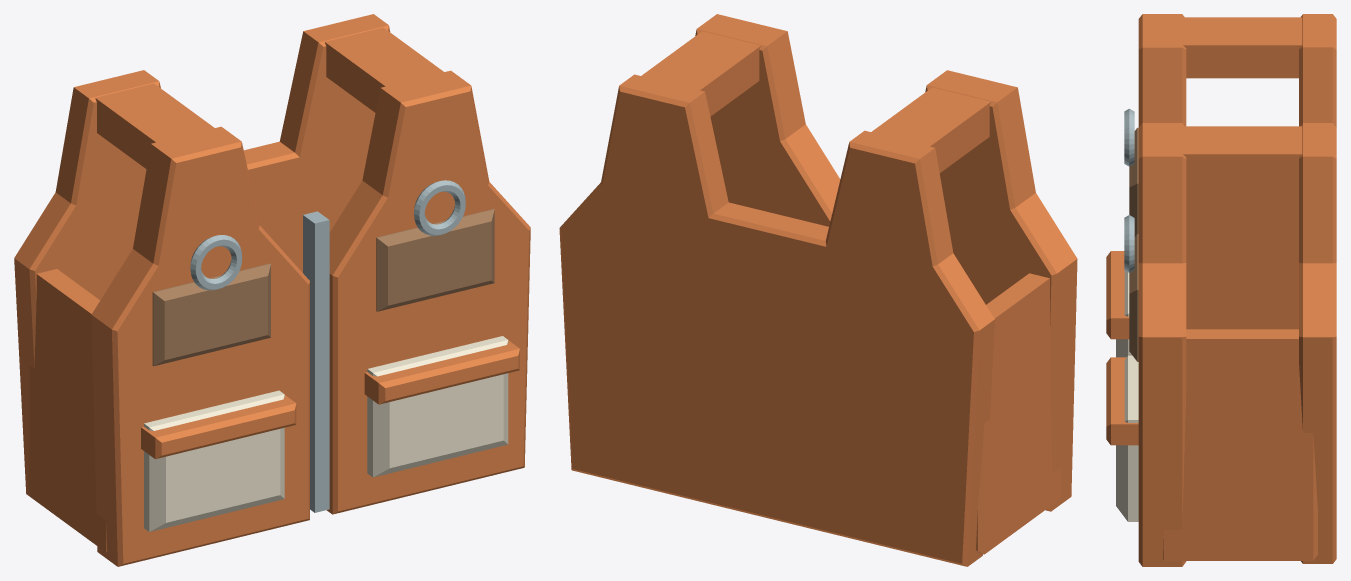
The model's file is harbor-and-tackle-fishing-vest-1f287c4b__19575.glb.
The picture shows the model from 3 angles, left to right: view 1: azimuth 30°, elevation 25°; view 2: azimuth 150°, elevation 25°; view 3: azimuth 270°, elevation 25°; orthographic projection. The views are drawn at different scales.
Parts seen in each view (by area): view 1: orange, ivory, cedar, metal; view 2: orange; view 3: orange, ivory, cedar, metal.
Part boxes in pixels (left/top/right/bottom): orange: left=14, top=14, right=530, bottom=566; ivory: left=144, top=336, right=508, bottom=531; cedar: left=152, top=209, right=494, bottom=366; metal: left=190, top=180, right=465, bottom=512; orange: left=559, top=14, right=1077, bottom=566; orange: left=1106, top=14, right=1336, bottom=566; ivory: left=1116, top=270, right=1138, bottom=521; cedar: left=1129, top=127, right=1138, bottom=361; metal: left=1124, top=108, right=1134, bottom=272.
Bounding box in the file's own units: 0.7122 × 0.642 × 0.3485.
